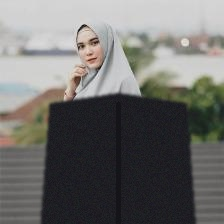Cadar_Niqab: (41, 12, 196, 224)
